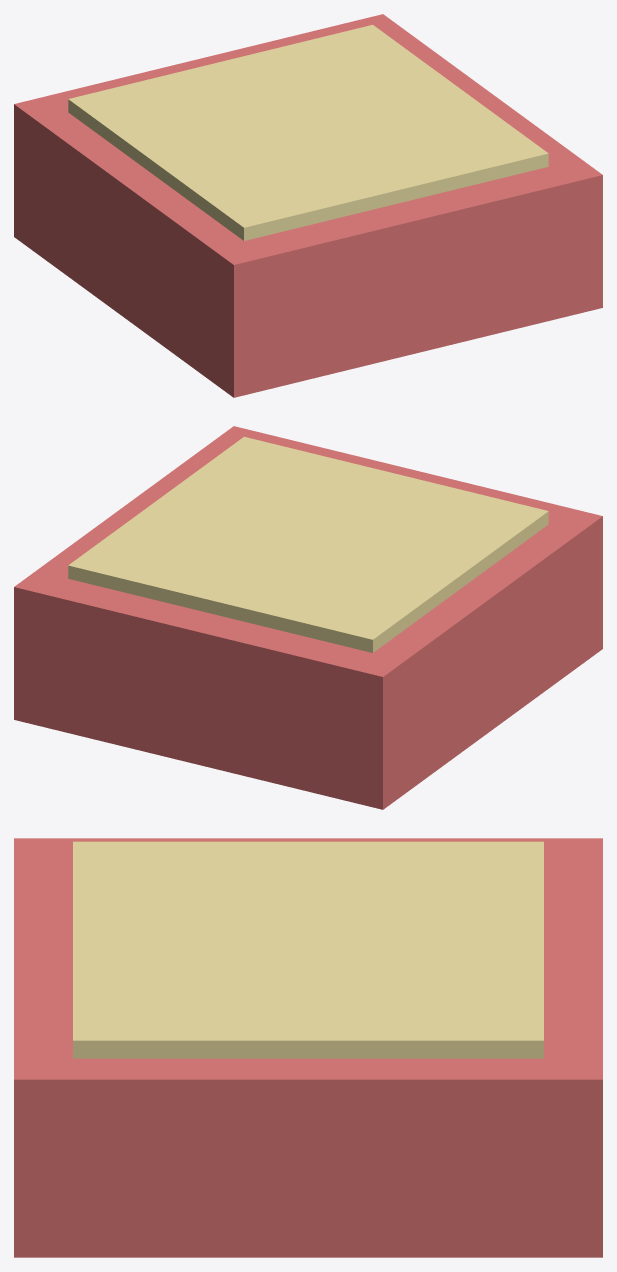
Rendered from Prop_Pet_AMF_Bowl_V16.glb.
The picture shows the model from 3 angles, top to bottom: view 1: azimuth 30°, elevation 25°; view 2: azimuth 150°, elevation 25°; view 3: azimuth 270°, elevation 25°; orthographic projection. The views are drawn at different scales.
Visible parts, largest first — view 1: Prop_Pet_AMF_Bowl_V16; view 2: Prop_Pet_AMF_Bowl_V16; view 3: Prop_Pet_AMF_Bowl_V16.
Boxes of the visible parts, bbox=[...] form: Prop_Pet_AMF_Bowl_V16: bbox=[14, 14, 602, 397]; Prop_Pet_AMF_Bowl_V16: bbox=[14, 426, 602, 809]; Prop_Pet_AMF_Bowl_V16: bbox=[14, 838, 602, 1257].
Bounding box in the file's own units: 0.2908 × 0.11 × 0.3.
